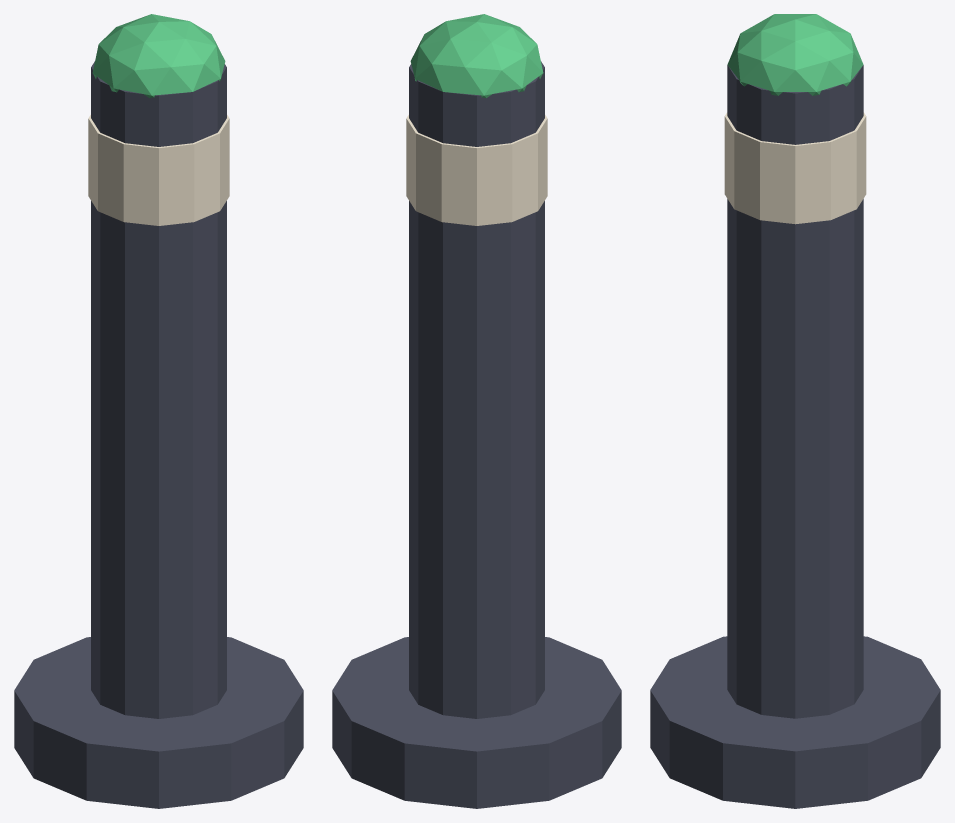
The model's file is bollard.glb.
3 renders of one model, left to right at view 1: azimuth 30°, elevation 25°; view 2: azimuth 150°, elevation 25°; view 3: azimuth 270°, elevation 25°, orthographic.
Visible parts, largest first — view 1: bollard__Body, bollard__Foot, bollard__Reflector, bollard__Cap; view 2: bollard__Body, bollard__Foot, bollard__Reflector, bollard__Cap; view 3: bollard__Body, bollard__Foot, bollard__Reflector, bollard__Cap.
Boxes of the visible parts, left/top/right/bottom form: bollard__Body: left=91, top=61, right=226, bottom=718; bollard__Foot: left=14, top=637, right=303, bottom=808; bollard__Reflector: left=88, top=115, right=229, bottom=225; bollard__Cap: left=92, top=14, right=225, bottom=98; bollard__Body: left=409, top=61, right=544, bottom=718; bollard__Foot: left=332, top=637, right=621, bottom=808; bollard__Reflector: left=406, top=115, right=547, bottom=225; bollard__Cap: left=410, top=14, right=543, bottom=98; bollard__Body: left=727, top=65, right=863, bottom=718; bollard__Foot: left=650, top=636, right=940, bottom=808; bollard__Reflector: left=724, top=112, right=866, bottom=224; bollard__Cap: left=727, top=14, right=863, bottom=95.
Size of the model in its own units: 0.064 by 0.177 by 0.064.
